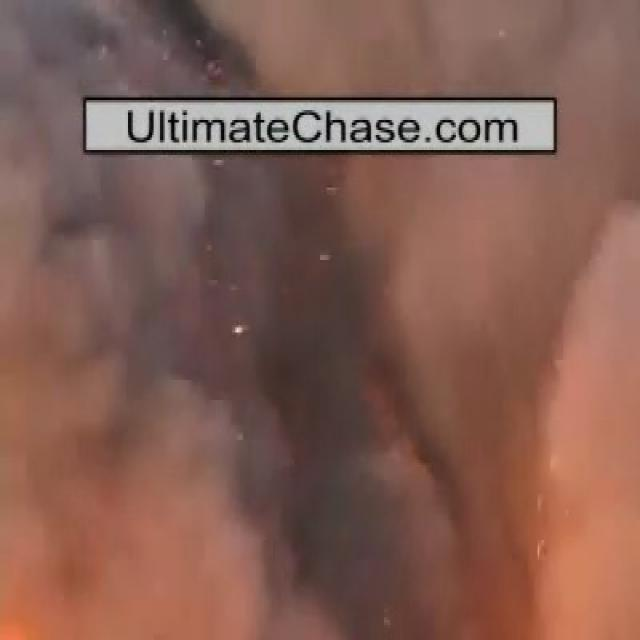smoke: (28, 162, 604, 574), (80, 0, 546, 94)
